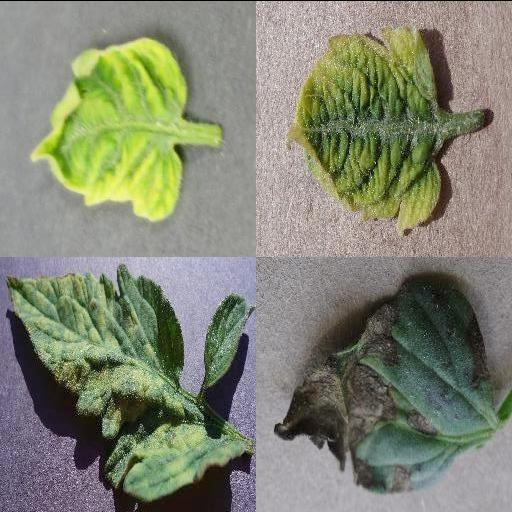Early Blight: (270, 272, 502, 494)
Leaf Mold: (5, 264, 256, 500)
Yellow Leaf Curl Virus: (286, 27, 442, 235), (30, 35, 186, 219)
